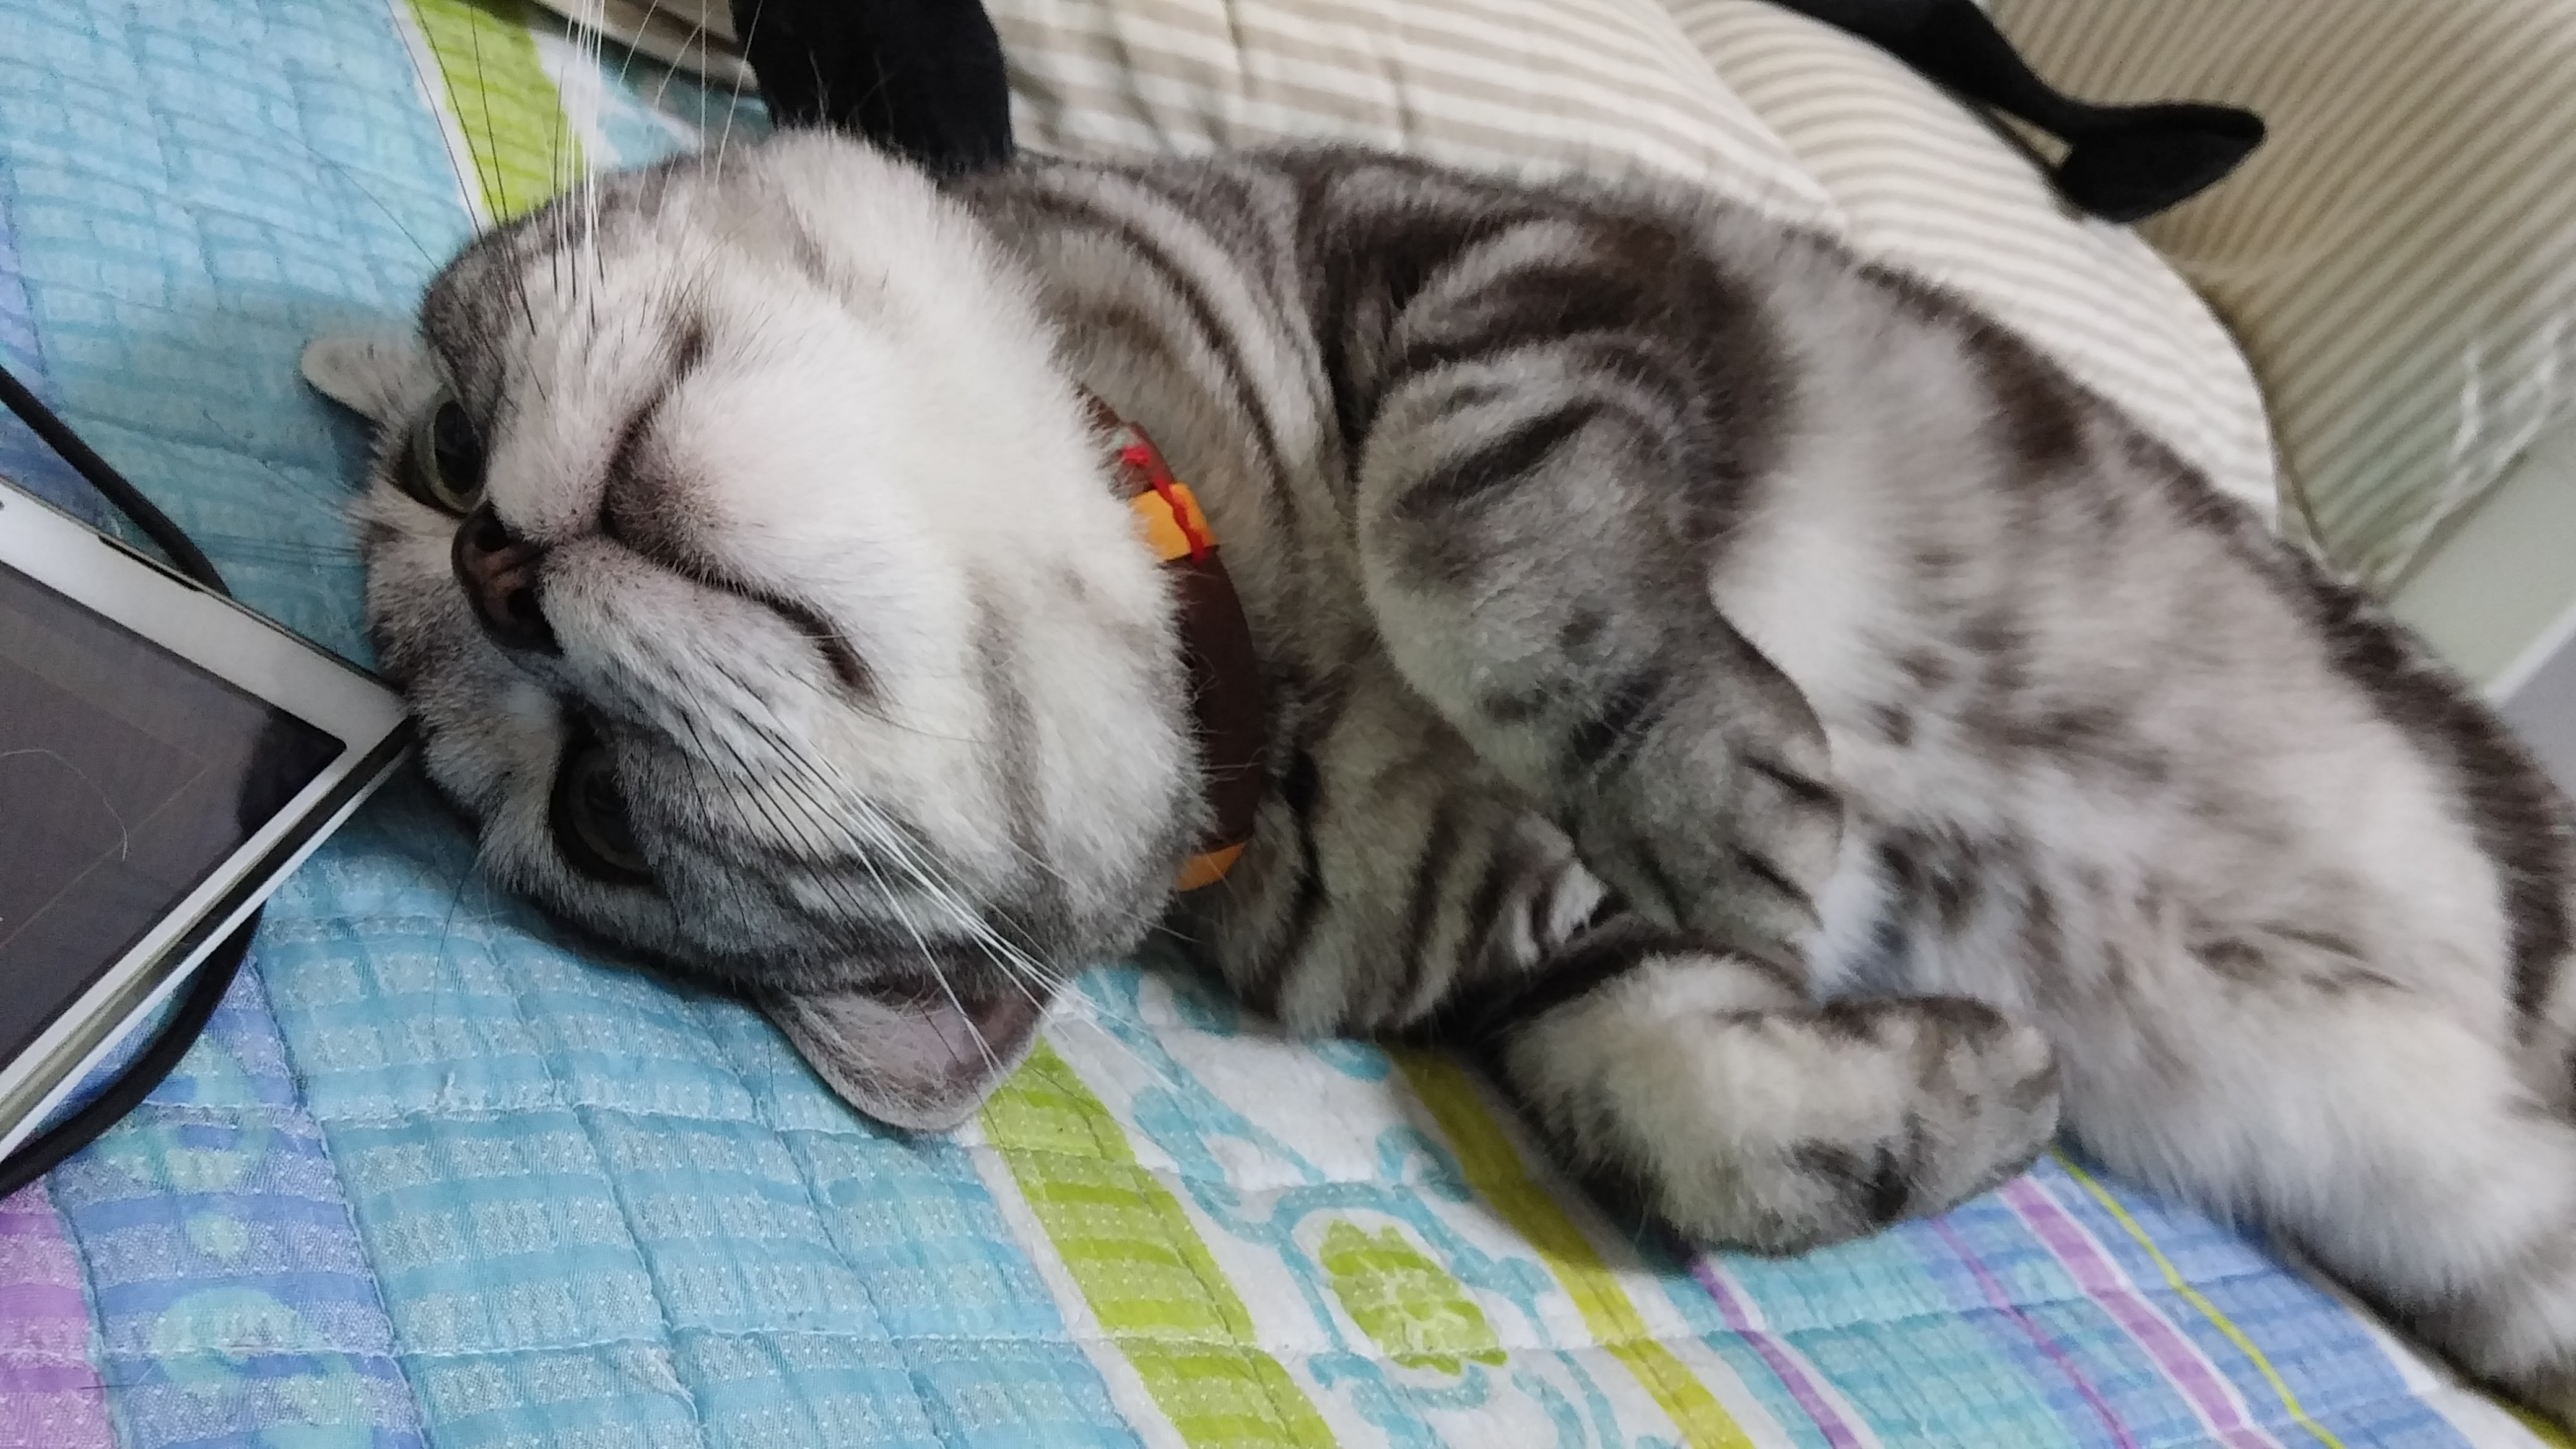cat-face: (255, 32, 1228, 1148)
